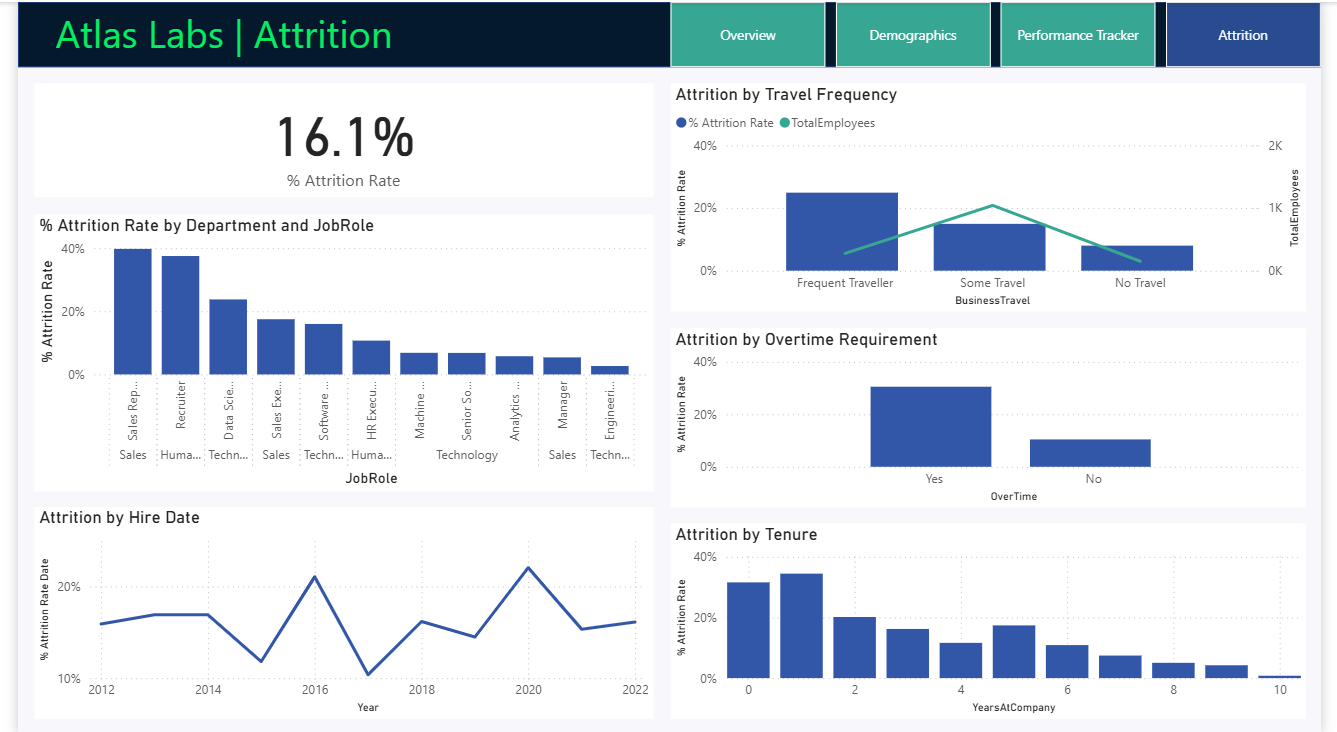

The page's visual inventory and layout, read from the dashboard file:
{"tool":"powerbi","page":{"name":"Attrition","canvas":[1280,720],"ordinal":3},"visuals":[{"type":"card","fields":{"Values":["_Measures.% Attrition Rate"]},"box":[16,80,608,112],"z":0},{"type":"columnChart","fields":{"Category":["DimEmployee.Department","DimEmployee.JobRole"],"Y":["_Measures.% Attrition Rate"]},"box":[16,208,608,272],"z":1000},{"type":"lineChart","title":"Attrition by Hire Date","fields":{"Y":["_Measures.% Attrition Rate Date"],"Category":["DimDate.Date.Variation.Date Hierarchy.Year","DimDate.Date.Variation.Date Hierarchy.Quarter","DimDate.Date.Variation.Date Hierarchy.Month","DimDate.Date.Variation.Date Hierarchy.Day"]},"box":[16,496,608,208],"z":2000},{"type":"lineStackedColumnComboChart","title":"Attrition by Travel Frequency","fields":{"Y":["_Measures.% Attrition Rate"],"Category":["DimEmployee.BusinessTravel"],"Y2":["_Measures.TotalEmployees"]},"box":[640,80,624,224],"z":3000},{"type":"columnChart","title":"Attrition by Overtime Requirement","fields":{"Category":["DimEmployee.OverTime"],"Y":["_Measures.% Attrition Rate"]},"box":[640,320,624,176],"z":4000},{"type":"columnChart","title":"Attrition by Tenure","fields":{"Category":["DimEmployee.YearsAtCompany"],"Y":["_Measures.% Attrition Rate"]},"box":[640,512,624,192],"z":5000},{"type":"shape","box":[0,0,1280,64],"z":6000},{"type":"textbox","box":[32,0,624,64],"z":7000},{"type":"pageNavigator","box":[640,0,640,64],"z":8000}]}

Visuals, with their boxes in screenshot pixels (x1, y1, x2, y2), scaled from the page's 1280x720 canvas onto the 1337x732 screenshot:
card - _Measures.% Attrition Rate: box=[17, 81, 652, 195]
columnChart - DimEmployee.Department x DimEmployee.JobRole: box=[17, 211, 652, 488]
"Attrition by Hire Date" lineChart: box=[17, 504, 652, 716]
"Attrition by Travel Frequency" lineStackedColumnComboChart: box=[668, 81, 1320, 309]
"Attrition by Overtime Requirement" columnChart: box=[668, 325, 1320, 504]
"Attrition by Tenure" columnChart: box=[668, 521, 1320, 716]
shape: box=[0, 0, 1336, 65]
textbox: box=[33, 0, 685, 65]
pageNavigator: box=[668, 0, 1336, 65]
